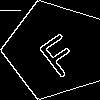F: (30, 25, 84, 80)
